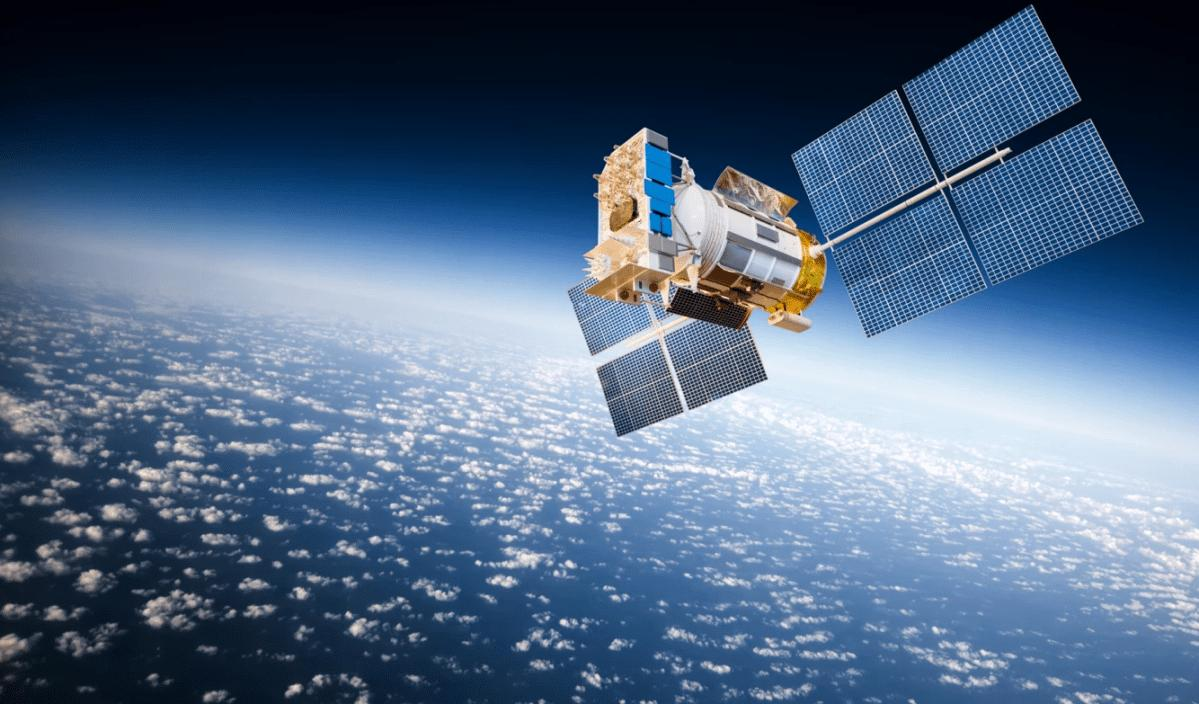body: (653, 178, 829, 315)
solar: (948, 116, 1147, 289), (900, 1, 1085, 178), (830, 192, 989, 341), (788, 86, 940, 239), (661, 314, 772, 413), (594, 337, 686, 439), (565, 261, 656, 359), (711, 164, 801, 225), (663, 283, 754, 332), (647, 276, 690, 324)
